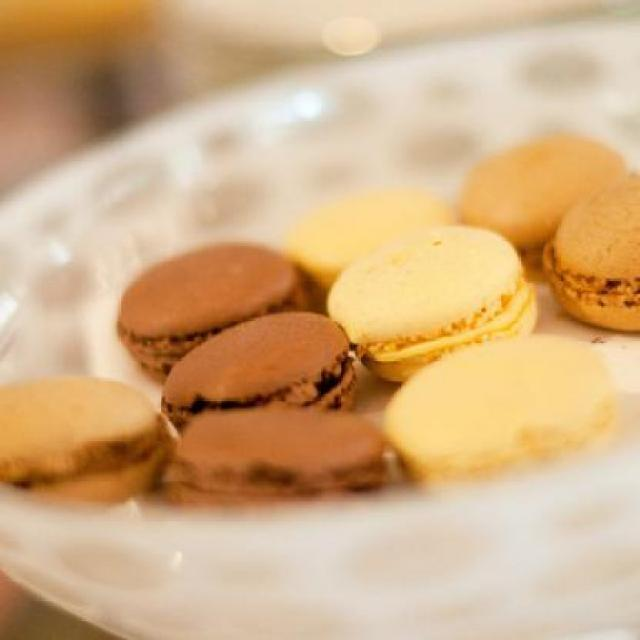Macaron: (14, 126, 638, 594)
